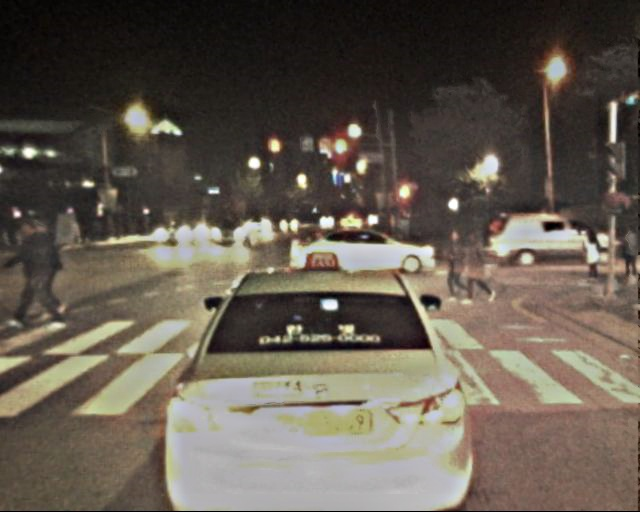person: (19, 212, 67, 328), (445, 230, 477, 307), (464, 228, 496, 305), (579, 228, 606, 293), (614, 227, 640, 291)
